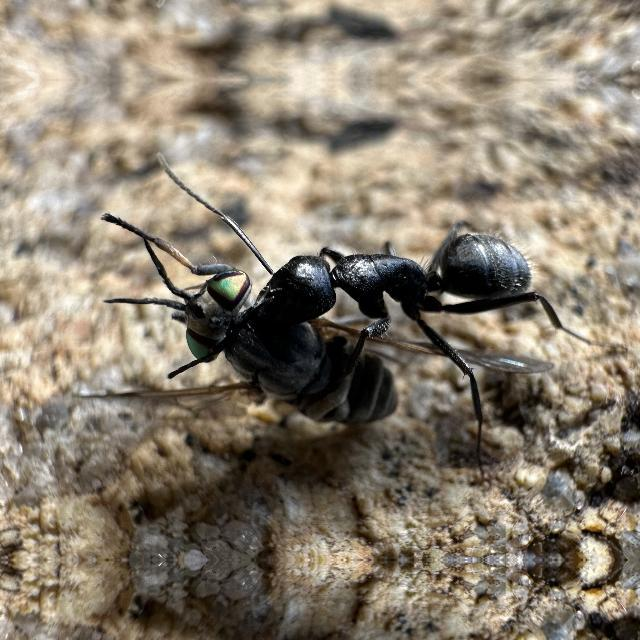Camponotus: (240, 174, 592, 360)
